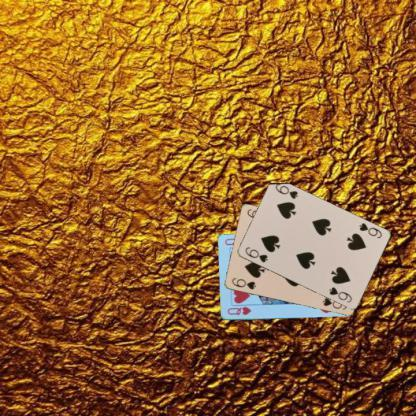6s: (356, 220, 384, 240), (242, 245, 269, 264), (228, 275, 258, 291)
Qh: (225, 304, 252, 317)
